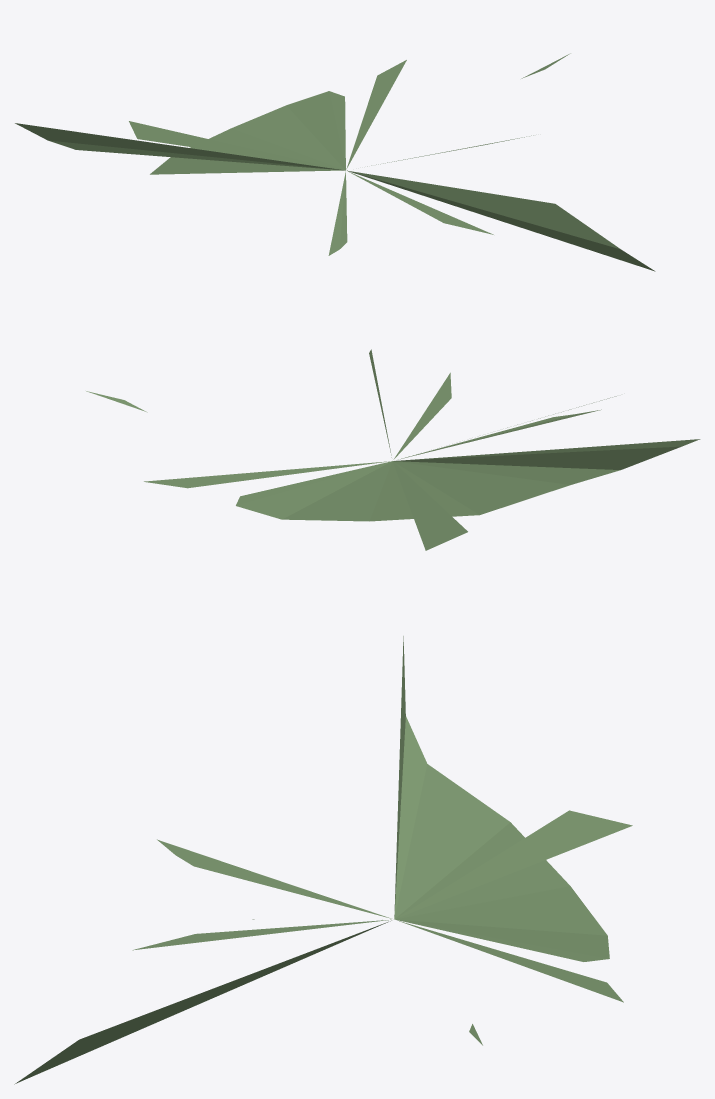
File: c_1665_17814_parks.glb
3 renders of one model, top to bottom at view 1: azimuth 30°, elevation 25°; view 2: azimuth 150°, elevation 25°; view 3: azimuth 270°, elevation 25°, orthographic. The views are drawn at different scales.
Parts seen in each view (by area): view 1: geometry_0; view 2: geometry_0; view 3: geometry_0.
Part boxes in pixels (x1,y1,x2,y2): geometry_0: (15,53,655,271); geometry_0: (86,349,700,550); geometry_0: (14,636,632,1084).
Size of the model in its own units: 312 by 67.47 by 217.
